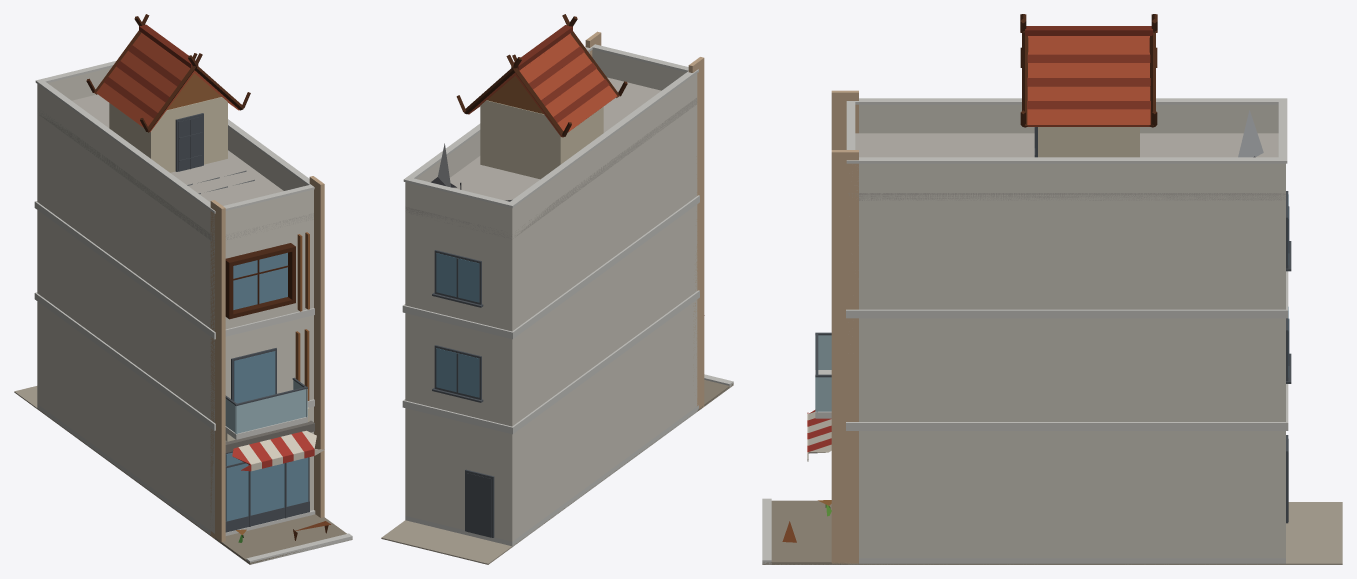
The model's file is bay1_mid2.glb.
The picture shows the model from 3 angles, left to right: view 1: azimuth 30°, elevation 25°; view 2: azimuth 150°, elevation 25°; view 3: azimuth 270°, elevation 25°; orthographic projection. The views are drawn at different scales.
Parts seen in each view (by area): view 1: body; view 2: body; view 3: body.
Boxes of the visible parts, left/top/right/bottom form: body: left=14, top=14, right=352, bottom=564; body: left=381, top=14, right=733, bottom=564; body: left=762, top=14, right=1342, bottom=564.
Size of the model in its own units: 4.33 by 16.03 by 15.9.
